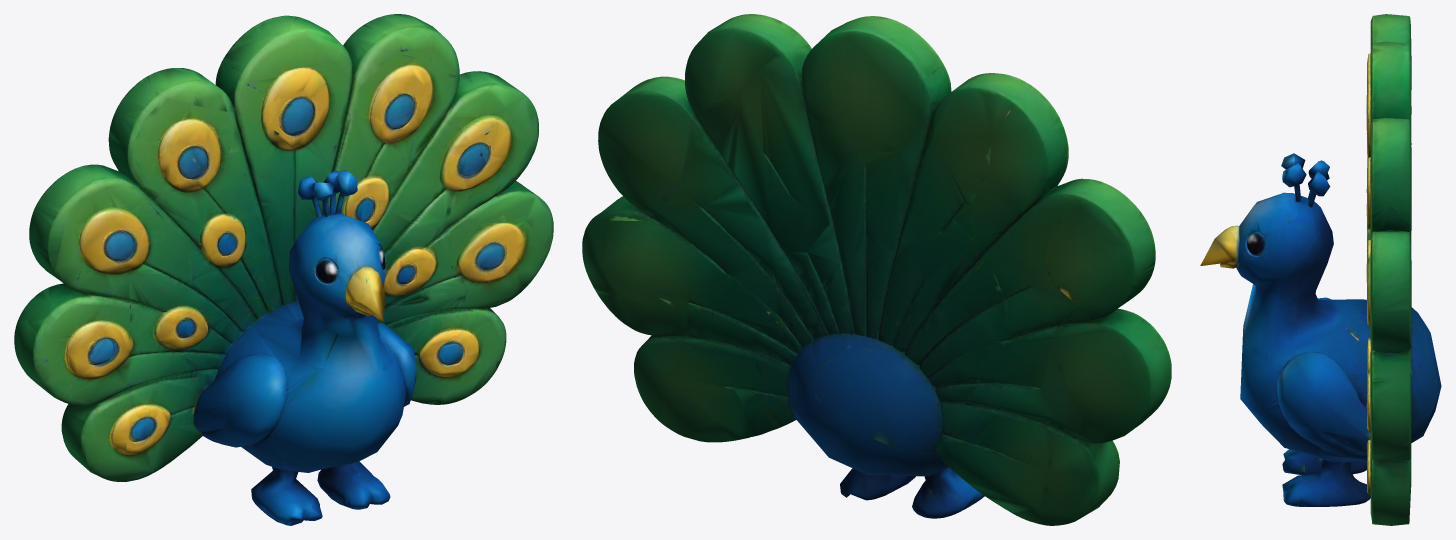
Rendered from peacock_pbr.glb.
3 views of the same model, side by side, from view 1: azimuth 30°, elevation 25°; view 2: azimuth 150°, elevation 25°; view 3: azimuth 270°, elevation 25° (orthographic). The views are drawn at different scales.
Parts seen in each view (by area): view 1: model; view 2: model; view 3: model.
Boxes of the visible parts, box(x1,y1,x2,y2) form: model: box(14, 14, 553, 525); model: box(582, 14, 1171, 525); model: box(1200, 14, 1441, 525).
Bounding box in the file's own units: 1.76 × 1.46 × 0.7331.
1 material, 1 textured.
